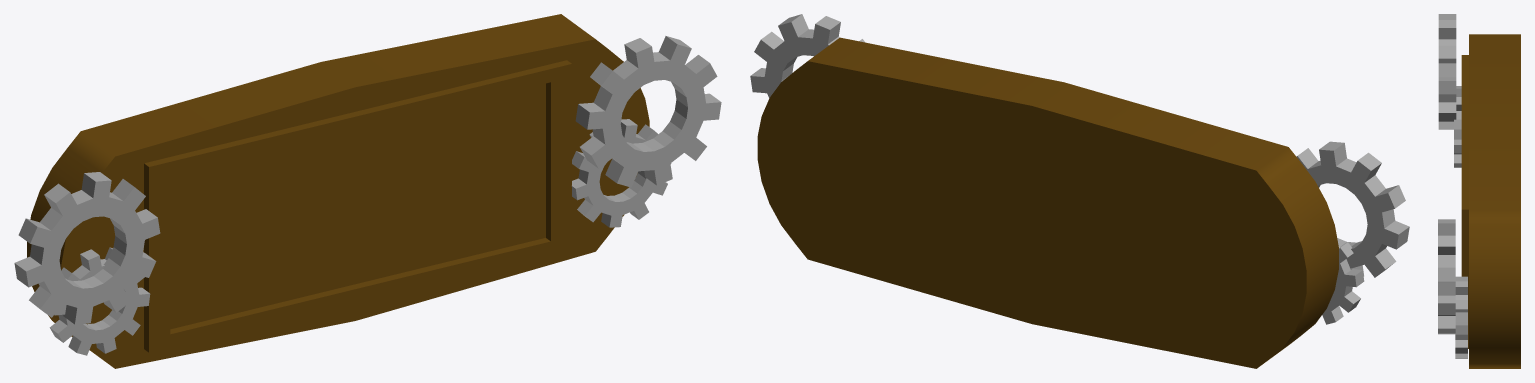
Rendered from SettingsButton.fbx.
3 views of the same model, side by side, from view 1: azimuth 30°, elevation 25°; view 2: azimuth 150°, elevation 25°; view 3: azimuth 270°, elevation 25° (orthographic). The views are drawn at different scales.
Parts seen in each view (by area): view 1: Button1, GearL (×2), GearS1 (×2); view 2: Button1, GearL (×2), GearS1; view 3: Button1, GearL (×2), GearS1 (×2).
Part boxes in pixels (bbox=[...]): Button1: bbox=[27, 14, 649, 368]; GearL (×2): bbox=[14, 36, 721, 324]; GearS1 (×2): bbox=[49, 119, 671, 355]; Button1: bbox=[757, 37, 1338, 368]; GearL (×2): bbox=[750, 14, 1409, 277]; GearS1: bbox=[1322, 242, 1364, 324]; Button1: bbox=[1461, 34, 1520, 368]; GearL (×2): bbox=[1438, 14, 1456, 334]; GearS1 (×2): bbox=[1454, 86, 1467, 358].
Bounding box in the file's own units: 19.34 × 6.22 × 2.66.
